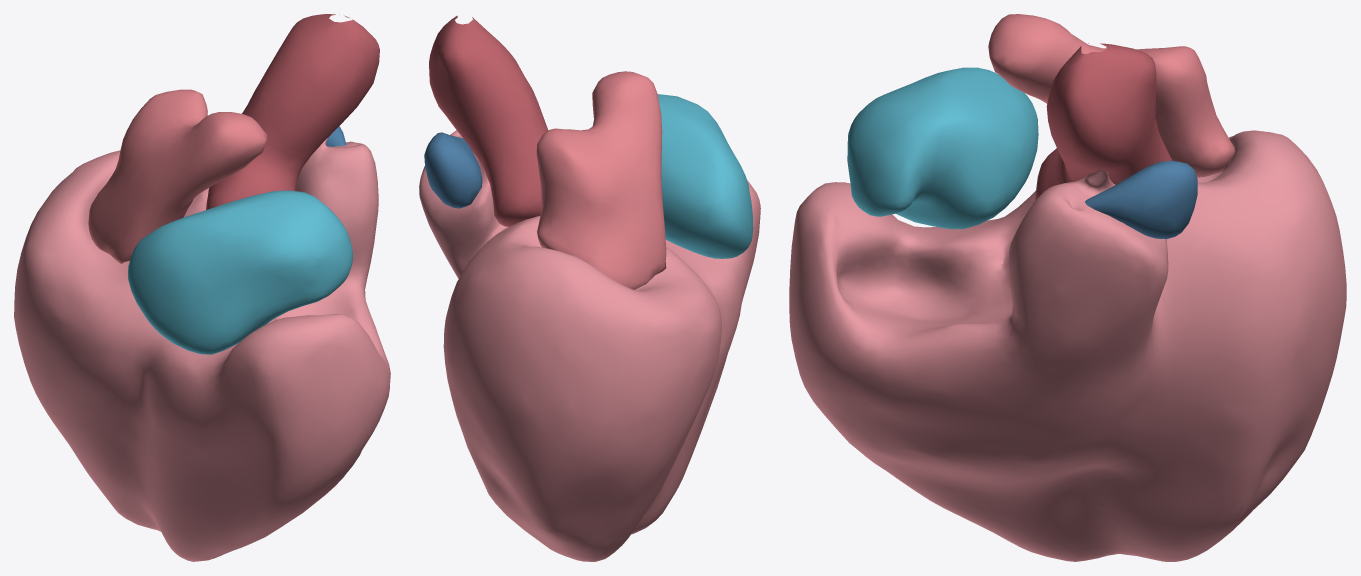
Rendered from frame_66.glb.
3 views of the same model, side by side, from view 1: azimuth 30°, elevation 25°; view 2: azimuth 150°, elevation 25°; view 3: azimuth 270°, elevation 25° (orthographic). The views are drawn at different scales.
Visible parts, largest first — view 1: Renderer Node; view 2: Renderer Node; view 3: Renderer Node.
Boxes of the visible parts, <box> form: Renderer Node: <box>14,14,390,561</box>; Renderer Node: <box>419,16,760,561</box>; Renderer Node: <box>789,14,1346,561</box>.
Bounding box in the file's own units: 107 × 165 × 137.
